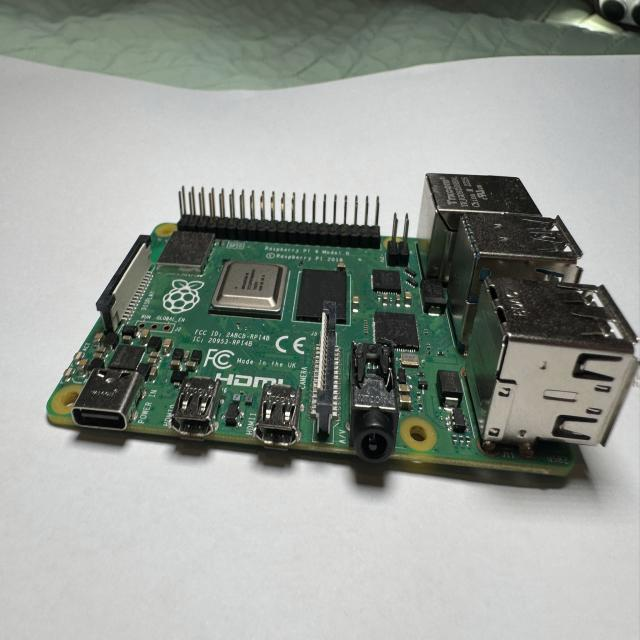CPU: (209, 260, 291, 323)
Ethernet: (415, 170, 544, 285)
RAM: (296, 264, 351, 329)
Raspberry: (45, 176, 639, 490)
micro-hdmi: (168, 361, 224, 442), (250, 384, 312, 452)
